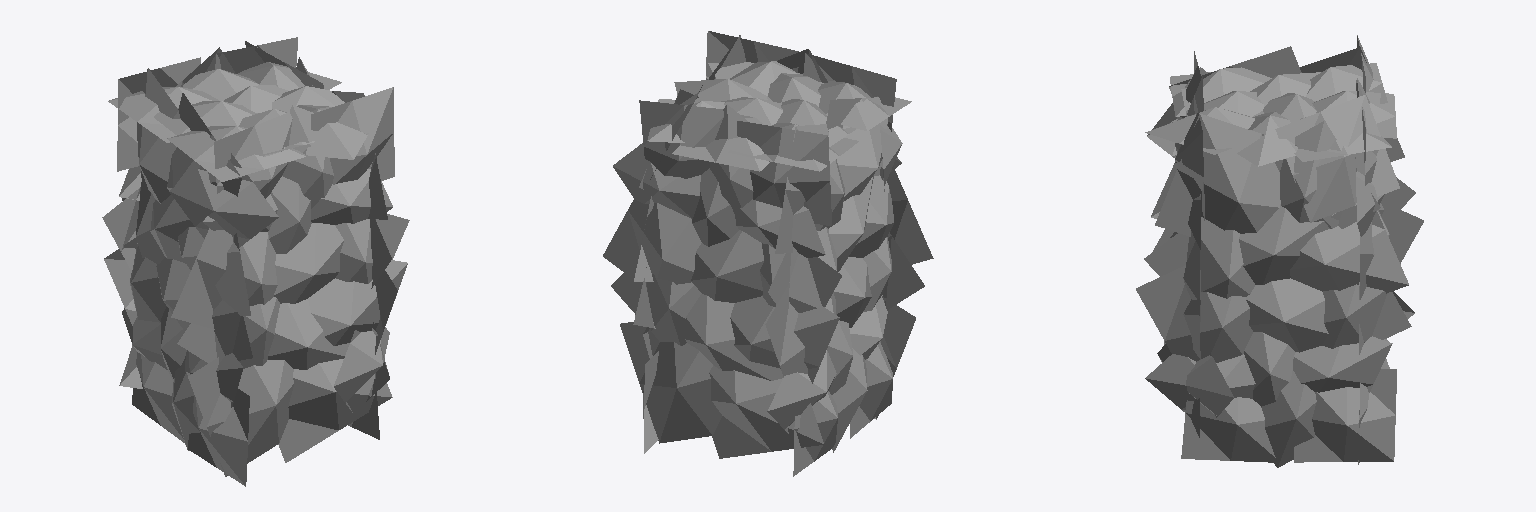
Rendered from Bush_2x1.obj.
3 views of the same model, side by side, from view 1: azimuth 30°, elevation 25°; view 2: azimuth 150°, elevation 25°; view 3: azimuth 270°, elevation 25° (orthographic).
Visible parts, largest first — view 1: Bush_2x1_Cube.017; view 2: Bush_2x1_Cube.017; view 3: Bush_2x1_Cube.017.
Part boxes in pixels (x1,y1,x2,y2): Bush_2x1_Cube.017: (102,37,409,486); Bush_2x1_Cube.017: (603,31,933,476); Bush_2x1_Cube.017: (1136,35,1423,467).
Bounding box in the file's own units: 1.19 × 1.63 × 1.19.